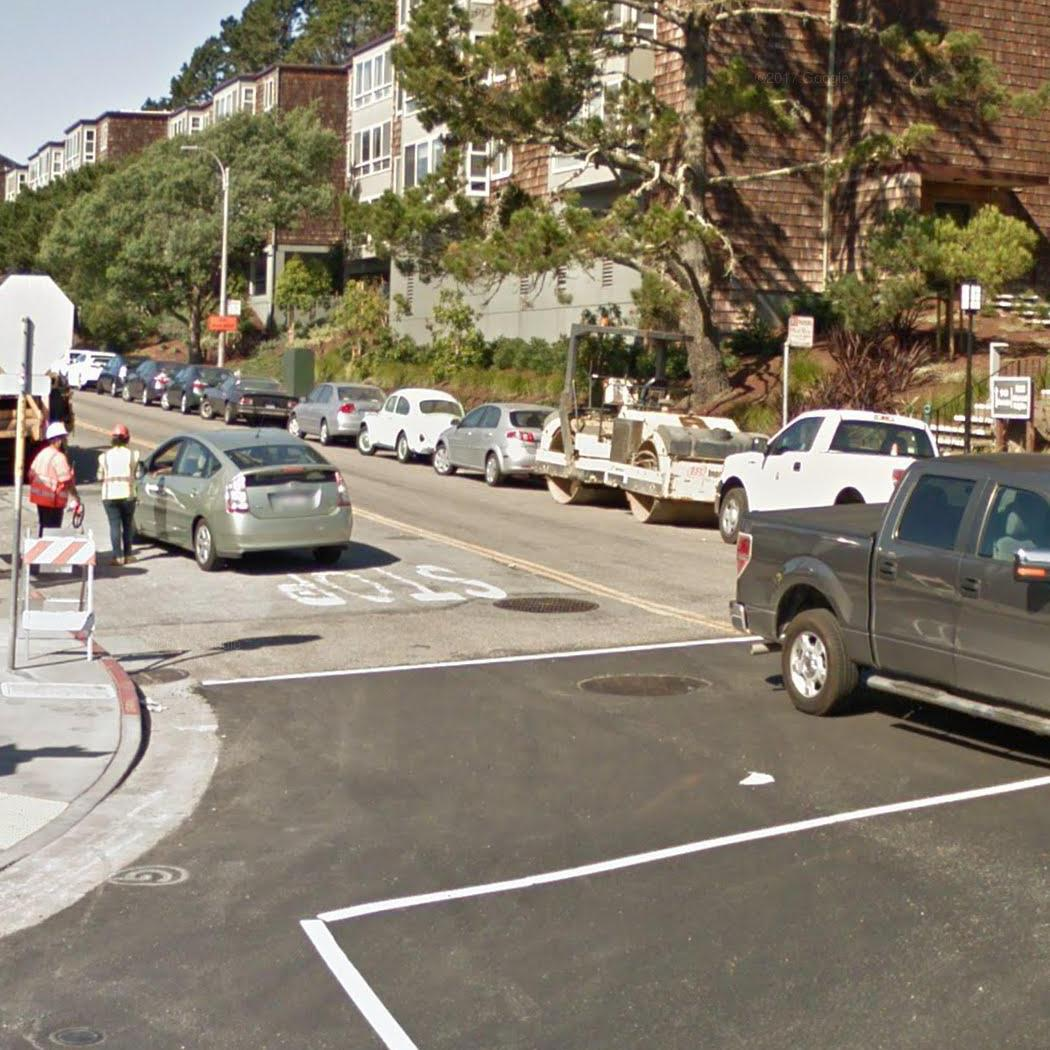No Parking: (783, 312, 819, 351)
